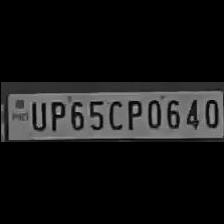0: (201, 96, 221, 128), (144, 96, 162, 130)
4: (182, 95, 200, 129)
5: (85, 97, 105, 130)
6: (65, 98, 84, 132), (163, 96, 181, 130)
C: (104, 97, 124, 130)
P: (122, 96, 142, 130), (46, 98, 64, 132)
U: (27, 99, 46, 131)
